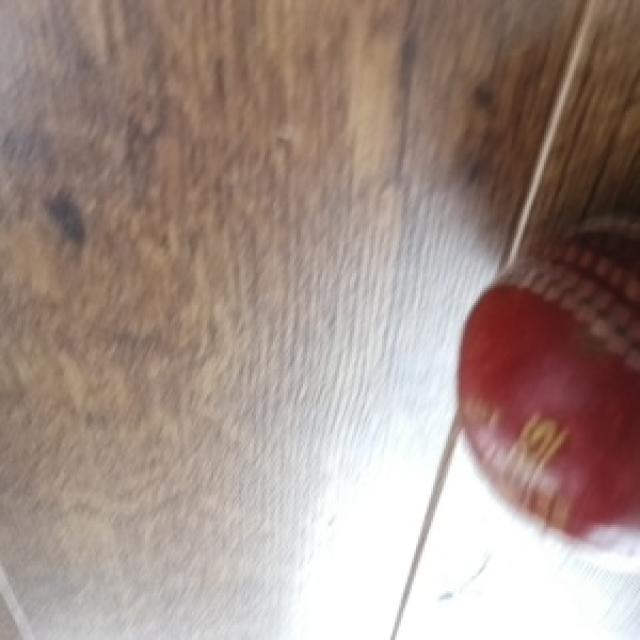ball: (457, 239, 640, 555)
